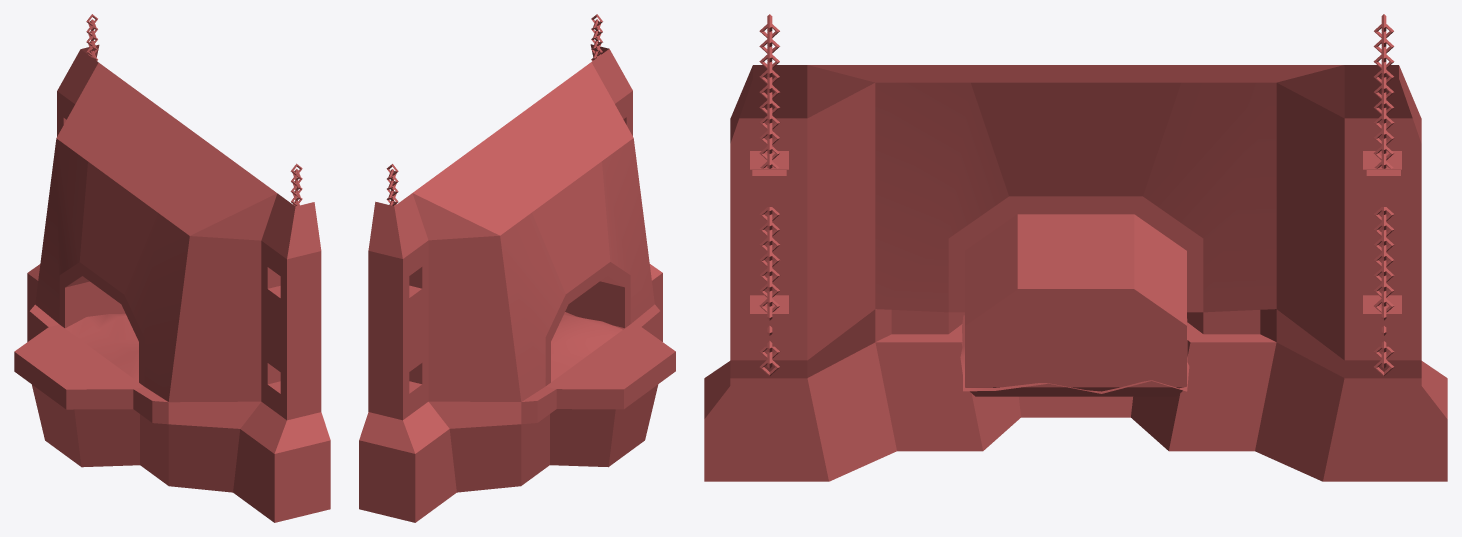
The model's file is Fournaise.fbx.
3 renders of one model, left to right at view 1: azimuth 30°, elevation 25°; view 2: azimuth 150°, elevation 25°; view 3: azimuth 270°, elevation 25°, orthographic. The views are drawn at different scales.
Parts seen in each view (by area): view 1: fournaise, braises, chainepierre; view 2: fournaise, braises, chainepierre; view 3: fournaise, chainepierre, braises.
Part boxes in pixels (<box>): fournaise: <box>14,44,330,522</box>; braises: <box>65,313,138,382</box>; chainepierre: <box>86,14,302,206</box>; fournaise: <box>359,44,675,522</box>; braises: <box>551,312,622,382</box>; chainepierre: <box>386,14,602,205</box>; fournaise: <box>704,65,1447,481</box>; chainepierre: <box>752,14,1400,376</box>; braises: <box>960,315,1189,393</box>.
Size of what is drawn, in the model's own units: 1.9 by 3.6 by 4.85.
